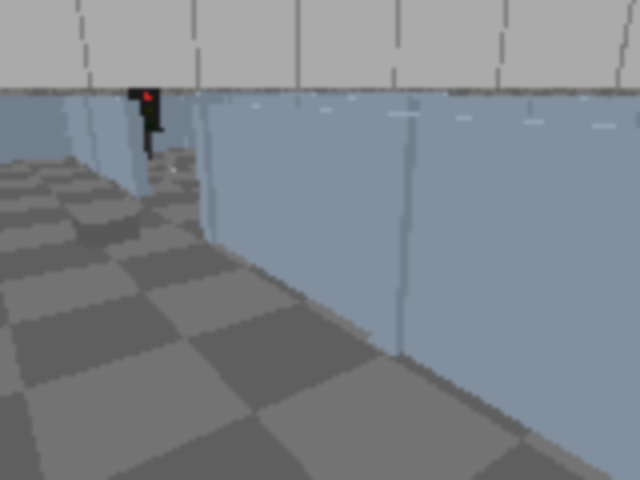obstacle: (72, 209, 142, 250)
person: (612, 0, 638, 426)
traffic_light: (127, 85, 165, 162)
